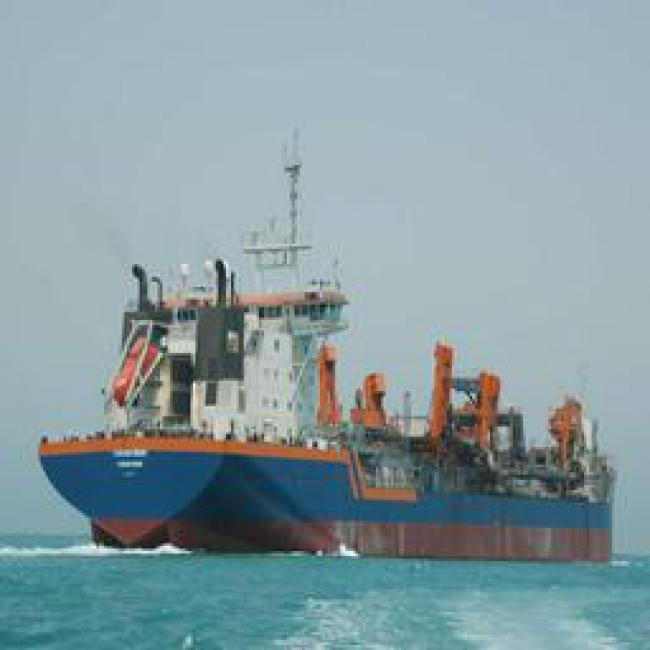Ship: (27, 272, 621, 568)
